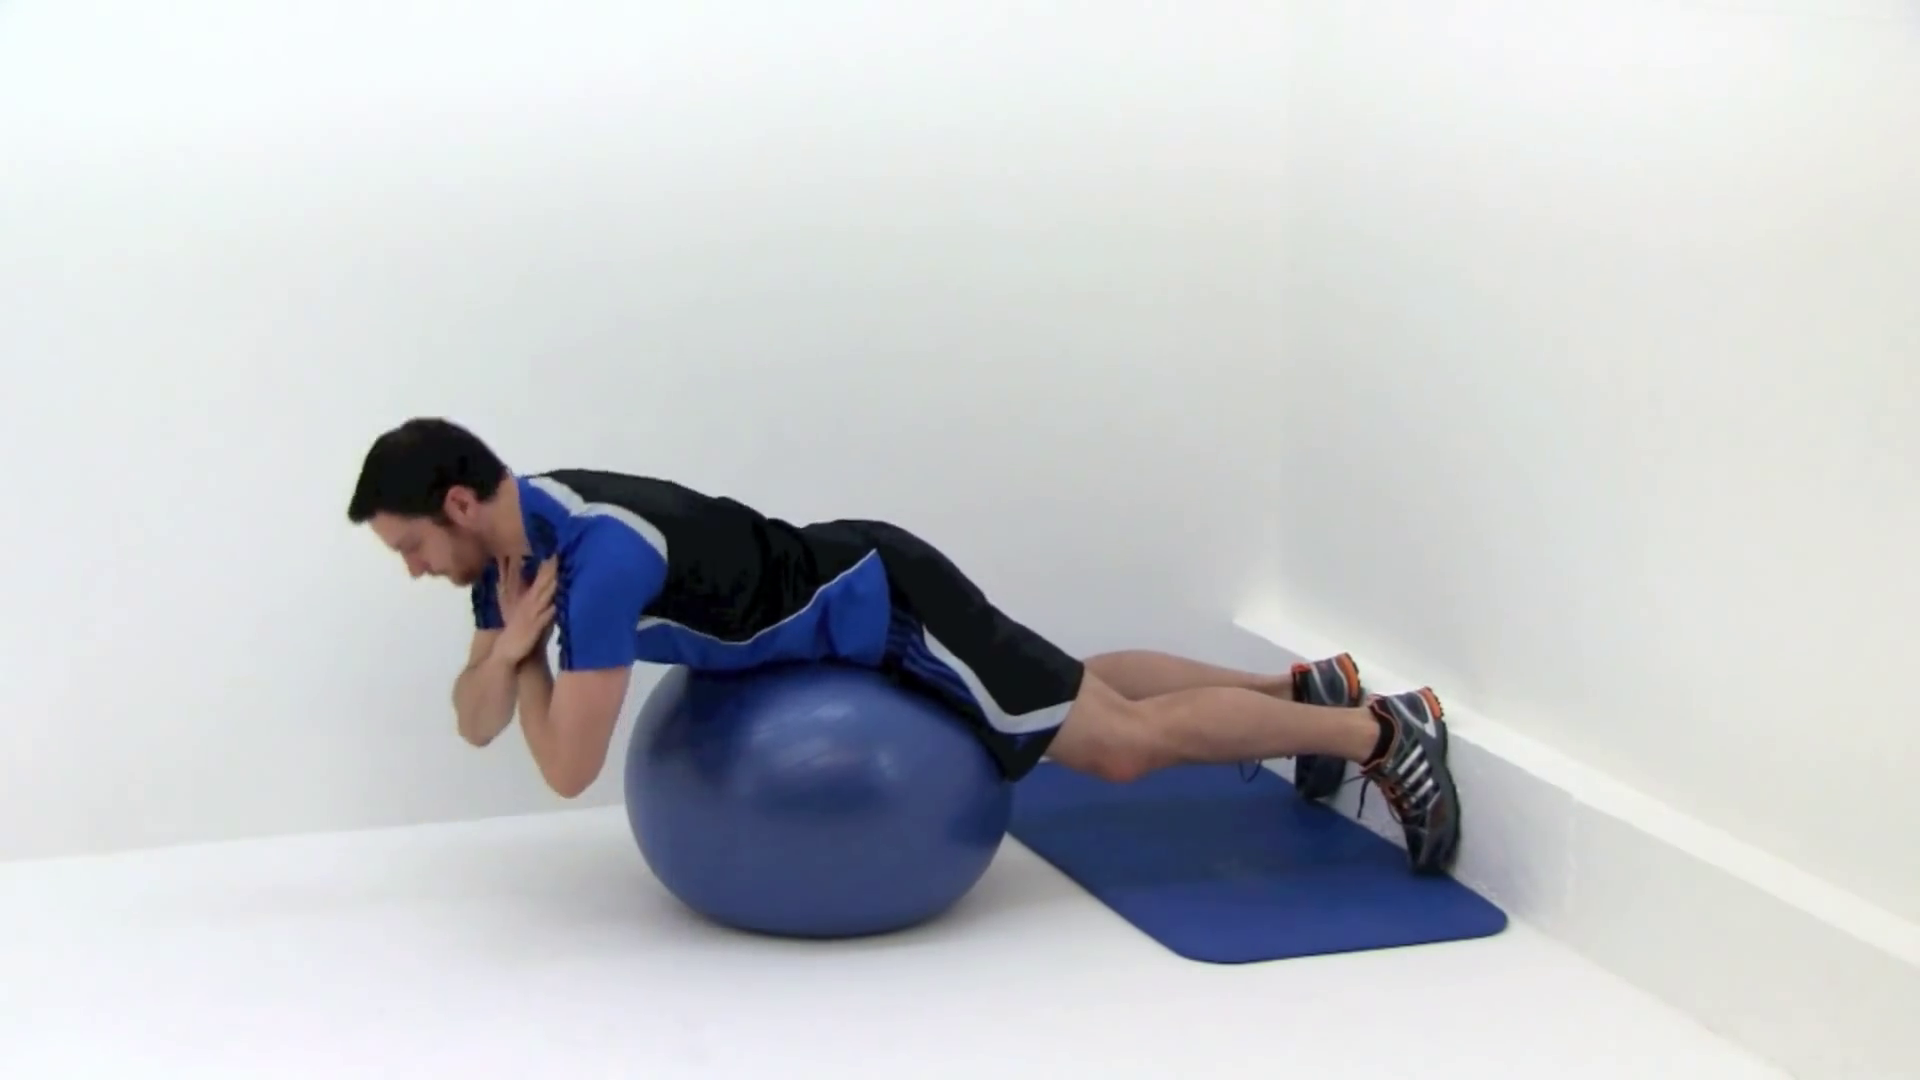yogaball: (608, 657, 1027, 960)
